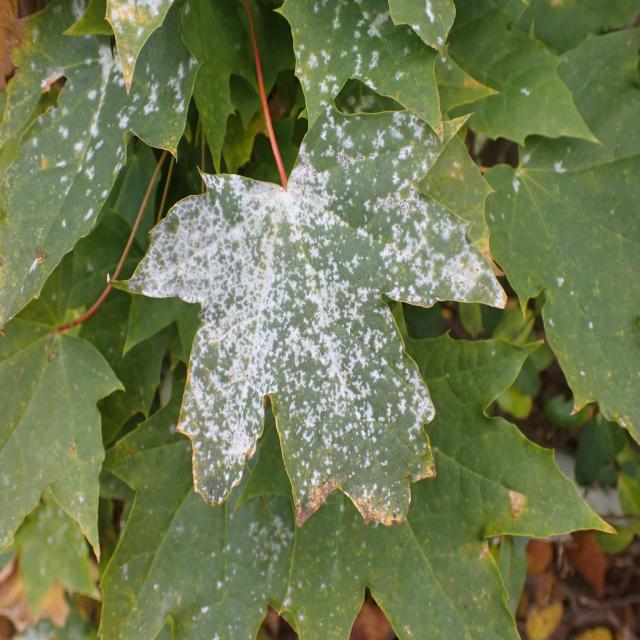powdery_mildew: (123, 107, 505, 525)
